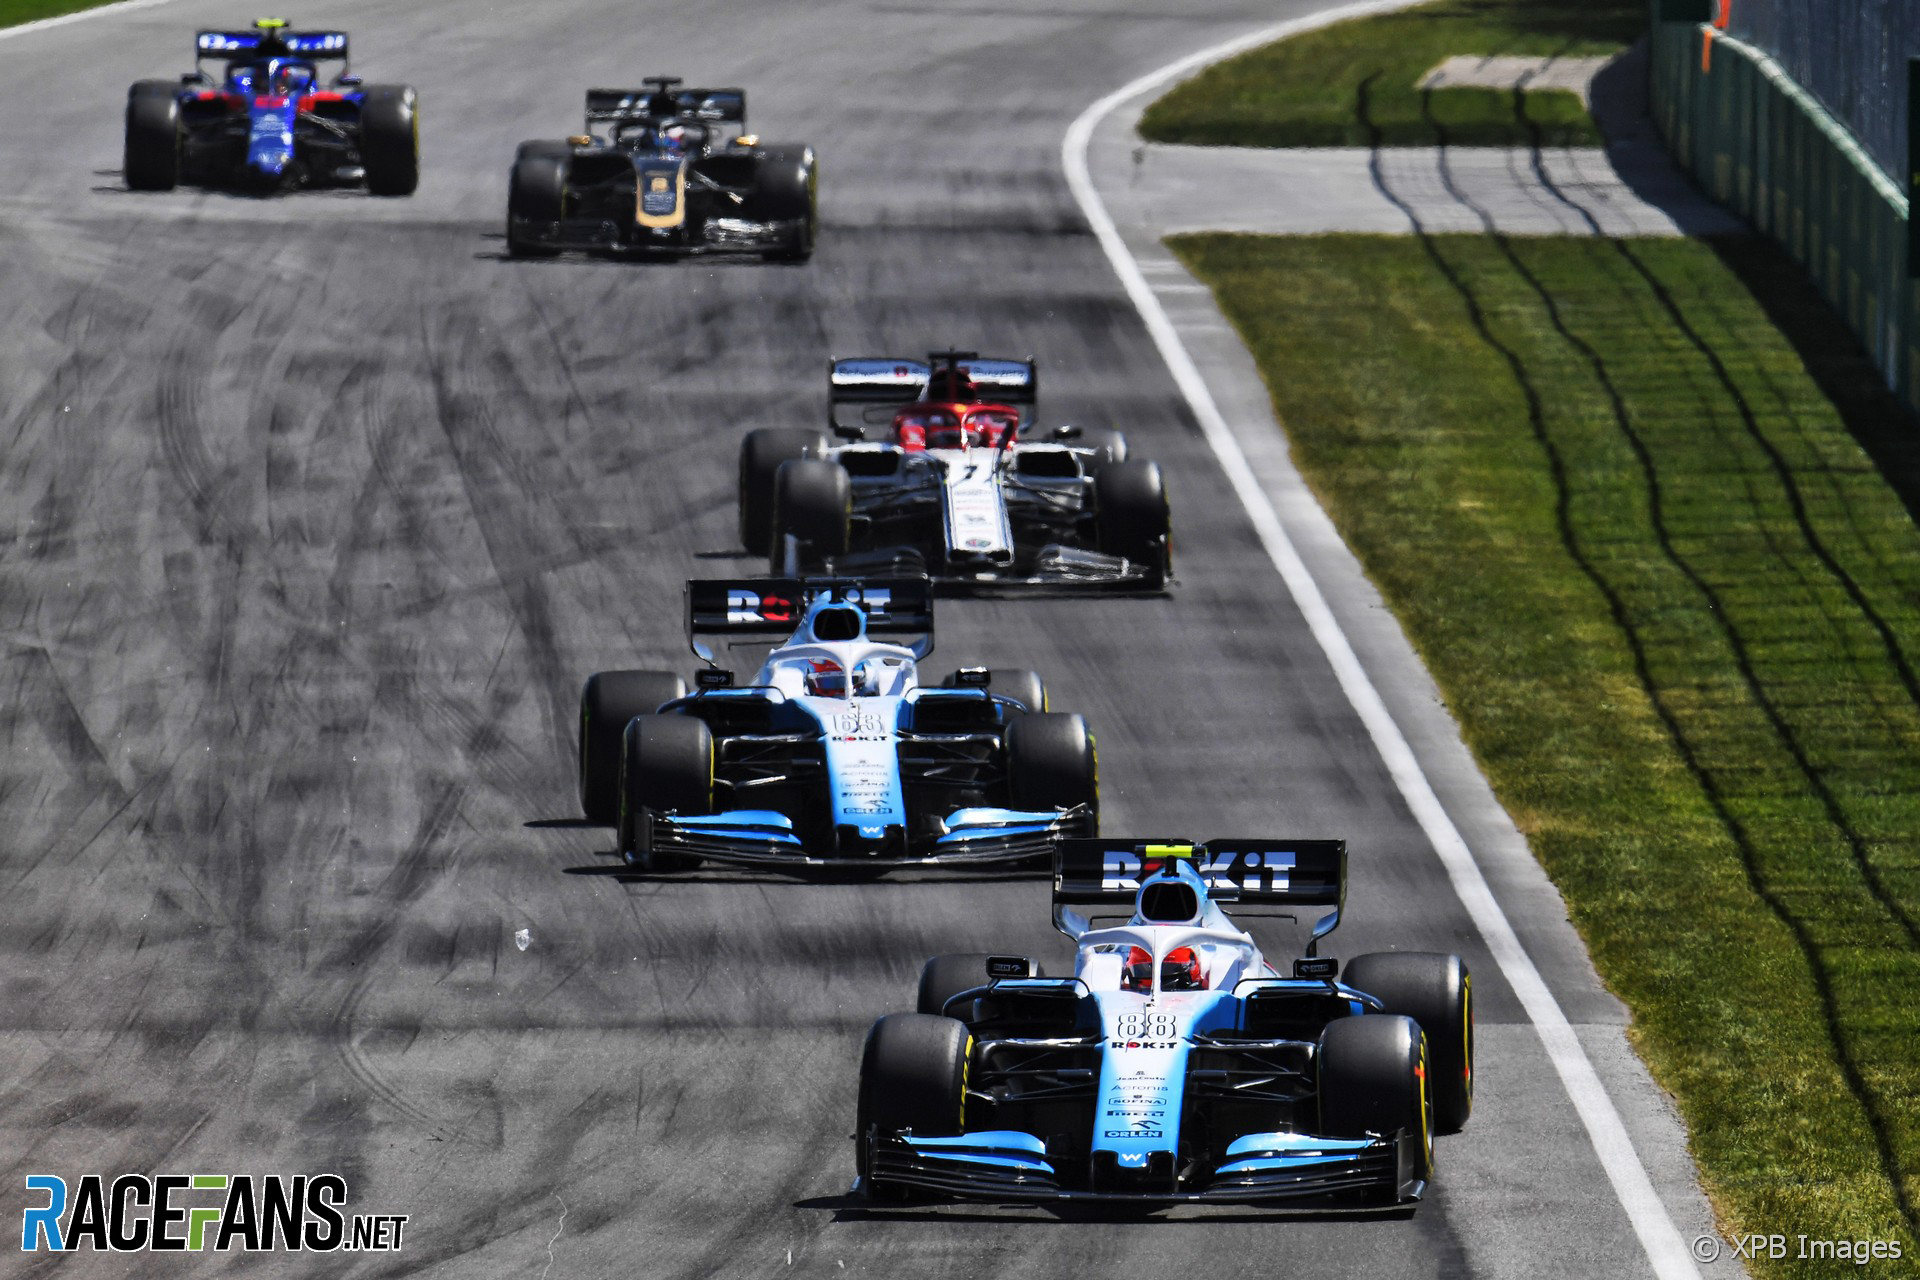F1 Car: (849, 829, 1483, 1209), (571, 564, 1110, 871), (726, 349, 1187, 601)
